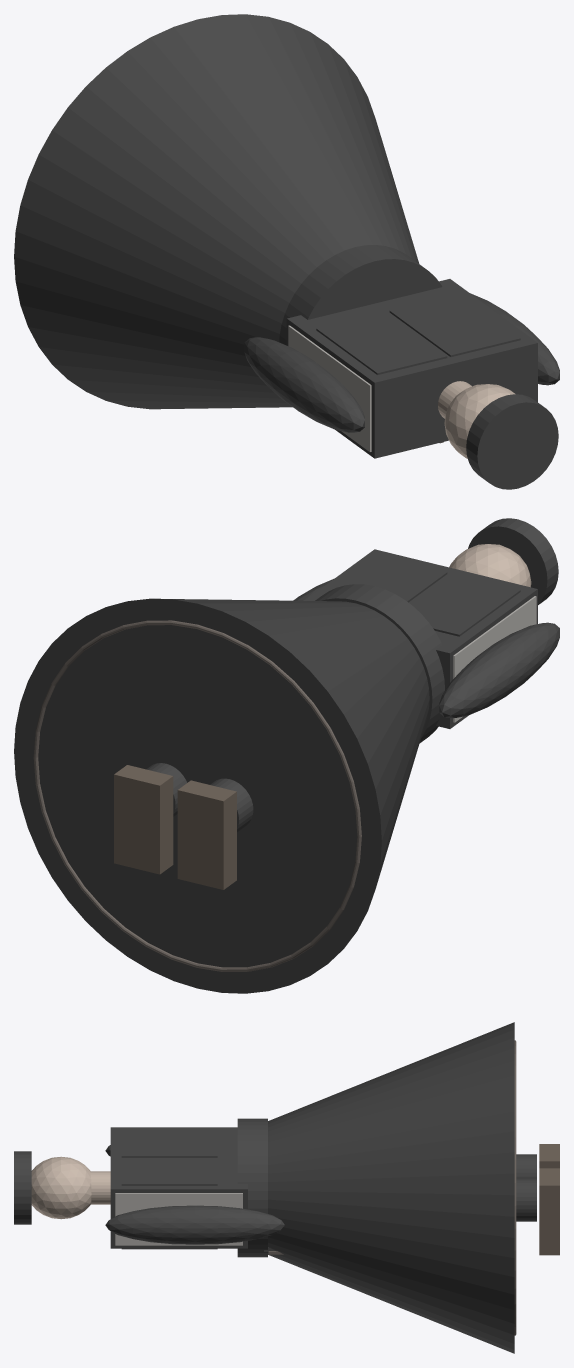
File: MASTER_101_STAGE3_DETAIL.glb
3 views of the same model, one above another, from view 1: azimuth 30°, elevation 25°; view 2: azimuth 150°, elevation 25°; view 3: azimuth 270°, elevation 25° (orthographic). The views are drawn at different scales.
Parts seen in each view (by area): view 1: slot_lower_main__fund_i_gjatë, slot_upper_inner__këmishë, slot_waist__brez, slot_headwear__mbulesë_koke, slot_upper_inner_sleeve_L, slot_upper_outer__jelek/xhamadan_L, slot_upper_outer__jelek/xhamadan_R, mannequin_torso, mannequin_head, slot_upper_inner_sleeve_R; view 2: slot_lower_main__fund_i_gjatë, slot_footwear__opinga_R, slot_footwear__opinga_L, slot_upper_inner_sleeve_L, detail_skirt_hem, slot_waist__brez, slot_upper_outer__jelek/xhamadan_L, slot_upper_inner__këmishë, slot_headwear__mbulesë_koke, slot_upper_outer__jelek/xhamadan_R, mannequin_head, mannequin_torso (+2 smaller); view 3: slot_lower_main__fund_i_gjatë, slot_upper_inner_sleeve_R, slot_upper_inner__këmishë, mannequin_head, slot_waist__brez, slot_upper_outer__jelek/xhamadan_R, slot_upper_outer__jelek/xhamadan_L, mannequin_torso, slot_footwear__opinga_R, slot_headwear__mbulesë_koke, slot_legwear__çorape_R, detail_skirt_hem (+3 smaller).
Boxes of the visible parts, box(x1,y1,x2,y2) form: slot_lower_main__fund_i_gjatë: box(14, 14, 419, 409); slot_upper_inner__këmishë: box(286, 279, 537, 458); slot_waist__brez: box(279, 245, 442, 345); slot_headwear__mbulesë_koke: box(466, 394, 558, 489); slot_upper_inner_sleeve_L: box(244, 337, 364, 432); slot_upper_outer__jelek/xhamadan_L: box(316, 311, 447, 374); slot_upper_outer__jelek/xhamadan_R: box(389, 293, 520, 356); mannequin_torso: box(288, 325, 371, 451); mannequin_head: box(444, 384, 515, 458); slot_upper_inner_sleeve_R: box(470, 293, 559, 385); slot_lower_main__fund_i_gjatë: box(14, 598, 429, 993); slot_footwear__opinga_R: box(114, 765, 173, 874); slot_footwear__opinga_L: box(177, 780, 236, 889); slot_upper_inner_sleeve_L: box(439, 622, 559, 718); detail_skirt_hem: box(33, 620, 361, 971); slot_waist__brez: box(315, 584, 444, 743); slot_upper_outer__jelek/xhamadan_L: box(409, 573, 520, 636); slot_upper_inner__këmishë: box(304, 549, 537, 728); slot_headwear__mbulesë_koke: box(468, 518, 558, 604); slot_upper_outer__jelek/xhamadan_R: box(325, 555, 447, 602); mannequin_head: box(449, 544, 531, 587); mannequin_torso: box(453, 596, 536, 722); slot_lower_main__fund_i_gjatë: box(268, 1022, 514, 1353); slot_upper_inner_sleeve_R: box(105, 1205, 284, 1244); slot_upper_inner__këmishë: box(110, 1127, 247, 1248); mannequin_head: box(31, 1156, 91, 1219); slot_waist__brez: box(237, 1118, 267, 1257); slot_upper_outer__jelek/xhamadan_R: box(121, 1157, 217, 1249); slot_upper_outer__jelek/xhamadan_L: box(121, 1129, 217, 1157); mannequin_torso: box(115, 1193, 242, 1245); slot_footwear__opinga_R: box(539, 1168, 559, 1255); slot_headwear__mbulesë_koke: box(14, 1151, 31, 1224); slot_legwear__çorape_R: box(516, 1178, 536, 1221); detail_skirt_hem: box(514, 1040, 516, 1335).
Bounding box in the file's own units: 1.04 × 1.04 × 1.71.
